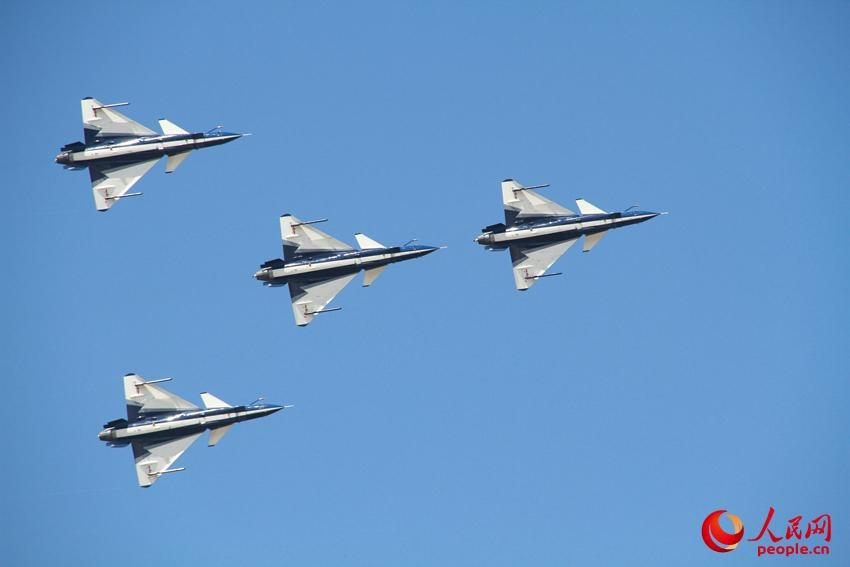airplane: (52, 95, 254, 215), (93, 369, 294, 487), (467, 178, 671, 292), (252, 213, 449, 330)
